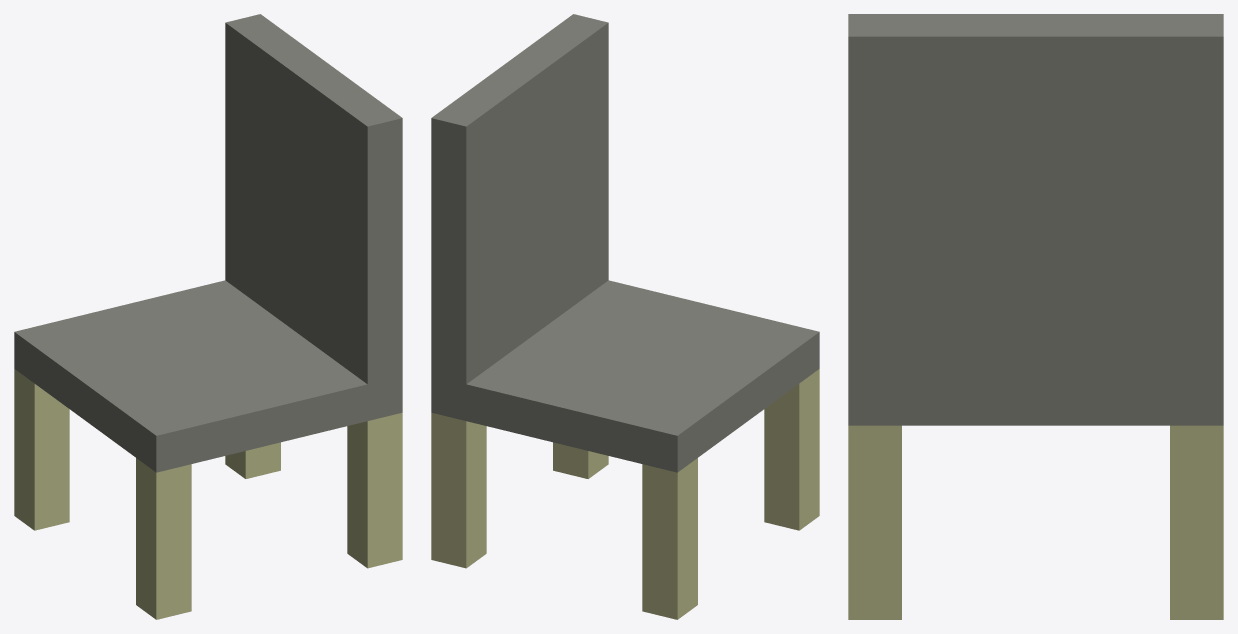
Rendered from chair.gltf.
3 views of the same model, side by side, from view 1: azimuth 30°, elevation 25°; view 2: azimuth 150°, elevation 25°; view 3: azimuth 270°, elevation 25° (orthographic). The views are drawn at different scales.
Parts seen in each view (by area): view 1: cube (×6); view 2: cube (×6); view 3: cube (×4).
Part boxes in pixels (<box>): cube (×6): <box>14,14,402,619</box>; cube (×6): <box>431,14,819,619</box>; cube (×4): <box>848,14,1223,619</box>.
Bounding box in the file's own units: 0.4375 × 0.75 × 0.4375.
3 materials, 2 textured.
